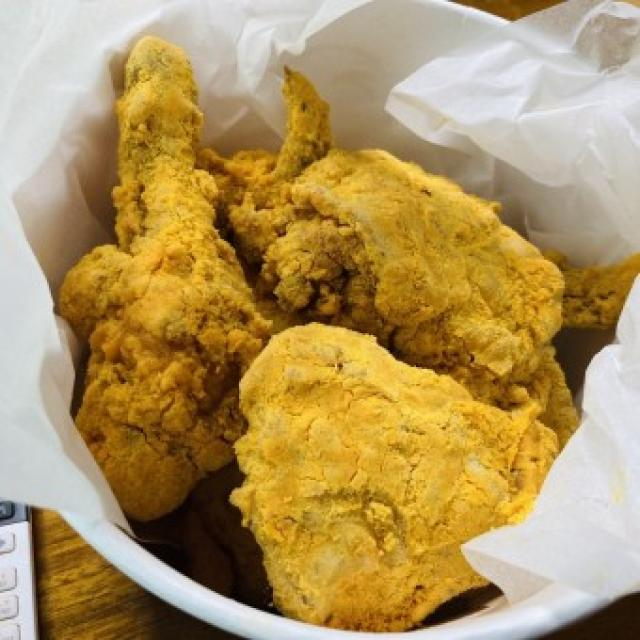Frango: (58, 19, 605, 640)
